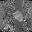people: (13, 10, 24, 22)
